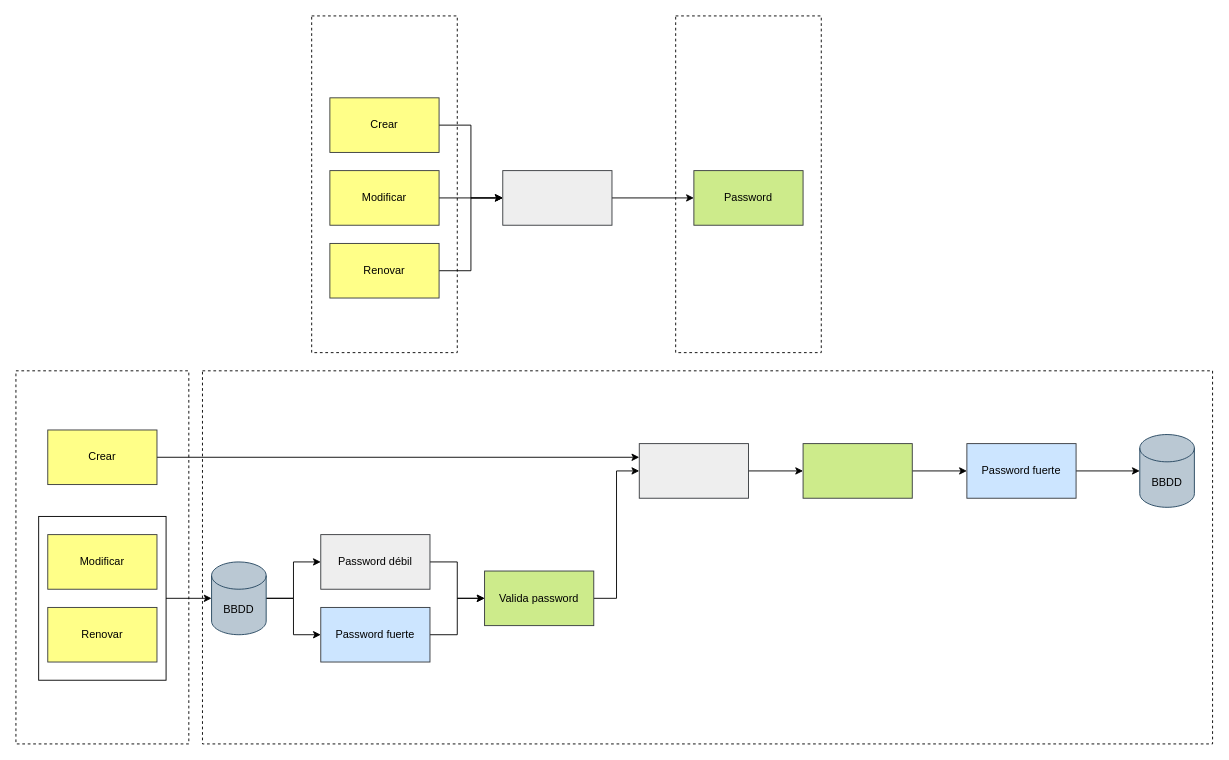
Image size: 1229x760. Some labels were removed from this diagram. Here are the shapes that lost their labels. From the top down, the box of each, then its label:
(311, 15, 457, 353): Acciones sobre el aggregate root
(502, 170, 612, 225): Advertisement
(675, 15, 821, 353): Lógica del password
(638, 443, 748, 498): Password plano
(802, 443, 912, 498): Crea Password
(15, 370, 189, 744): Casos de uso
(202, 370, 1213, 744): Flujo
